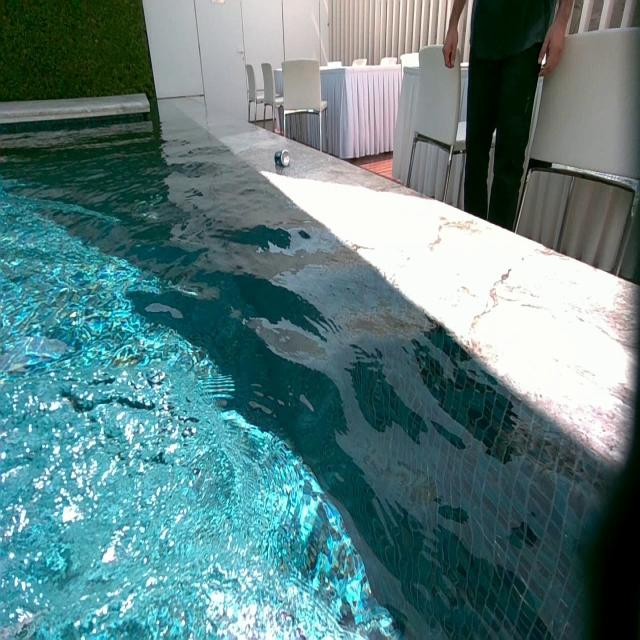Cans: (275, 149, 290, 165)
